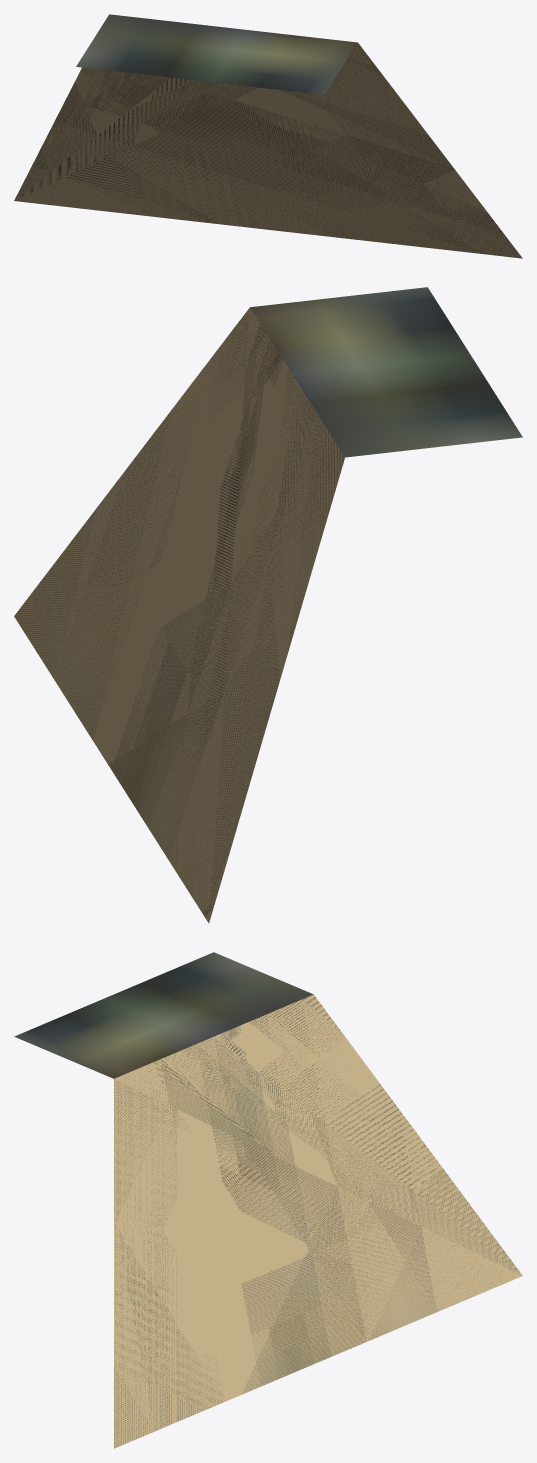
Rendered from 埃菲尔铁塔76.dae.
3 renders of one model, top to bottom at view 1: azimuth 30°, elevation 25°; view 2: azimuth 150°, elevation 25°; view 3: azimuth 270°, elevation 25°, orthographic. The views are drawn at different scales.
Visible parts, largest first — view 1: SketchUp (×2); view 2: SketchUp (×2); view 3: SketchUp (×2).
Boxes of the visible parts, box(x1,y1,x2,y2) form: SketchUp (×2): box(14, 14, 522, 258); SketchUp (×2): box(14, 287, 522, 923); SketchUp (×2): box(14, 952, 522, 1448).
Size of the model in its own units: 173 by 173 by 106.
Materials: 2 (1 with a texture image).
